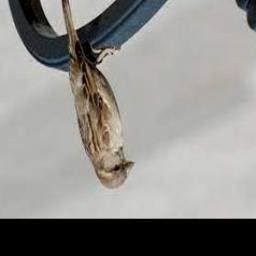Sparrow: (60, 0, 133, 189)
